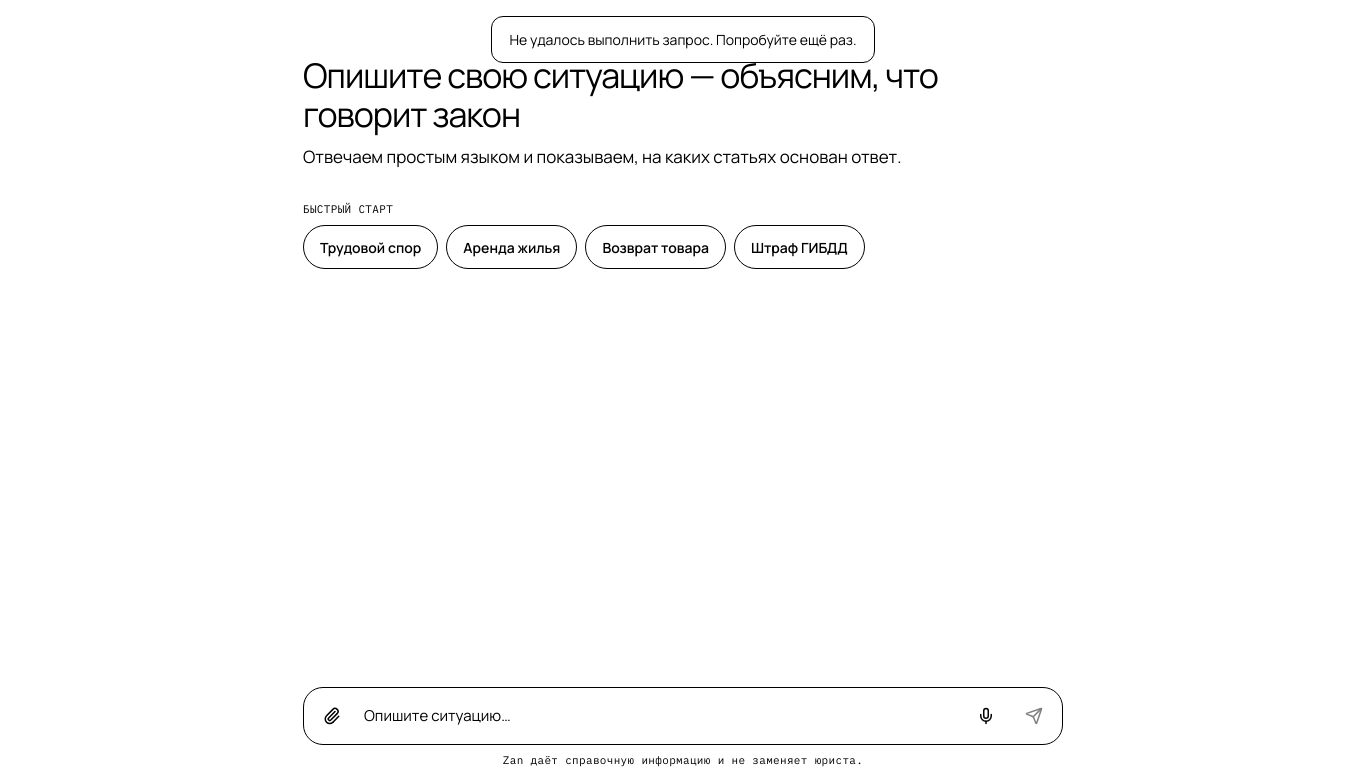
Test: ChatPage › отказ от оплаты при отправке — тред остаётся «ожидает оплаты» без кнопки «Оплатить»
This screenshot has width=1366, height=768.
Type "Вопрос без баланса" into the text box with placeholder "Опишите ситуацию…".
click(659, 716); type("Вопрос без баланса")  # box 358,695 -> 960,738
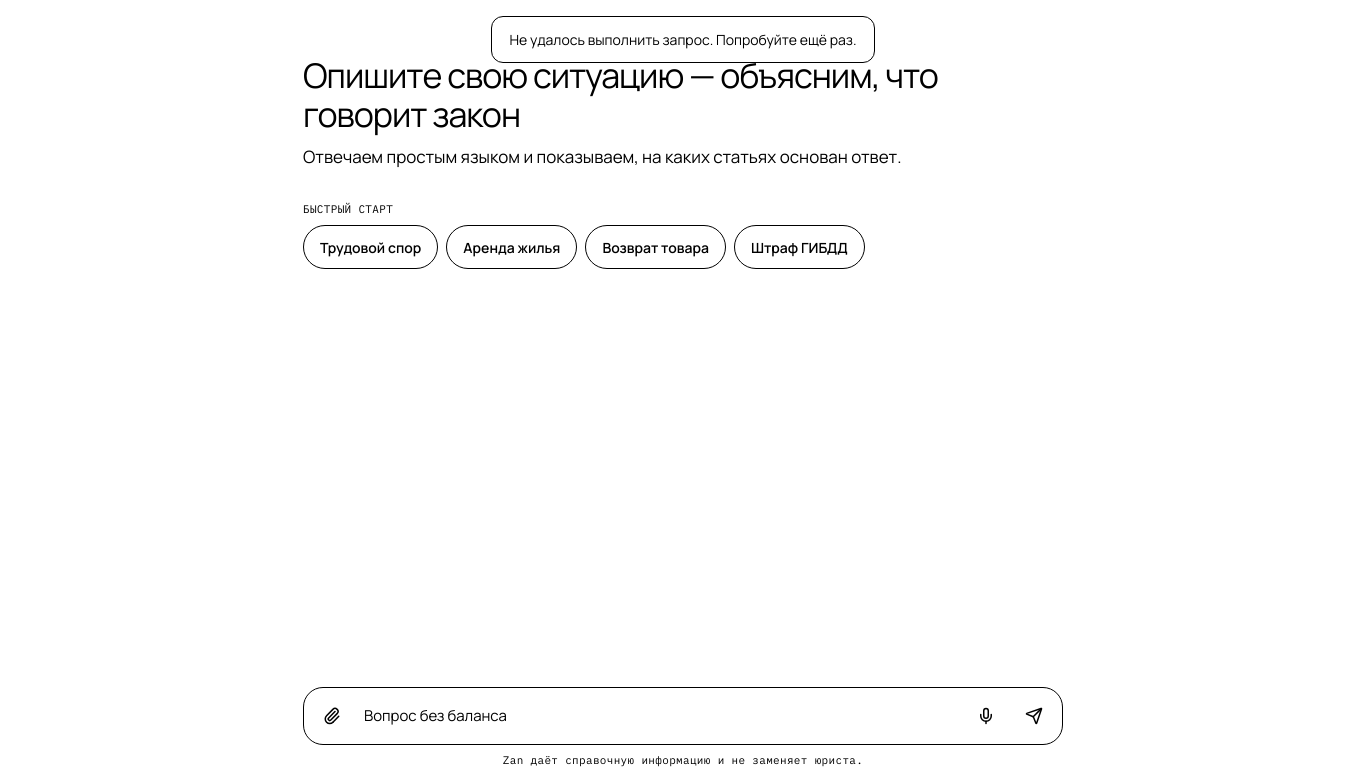
Click the button named "Отправить сообщение".
click(1034, 716)  # box 1012,694 -> 1056,738
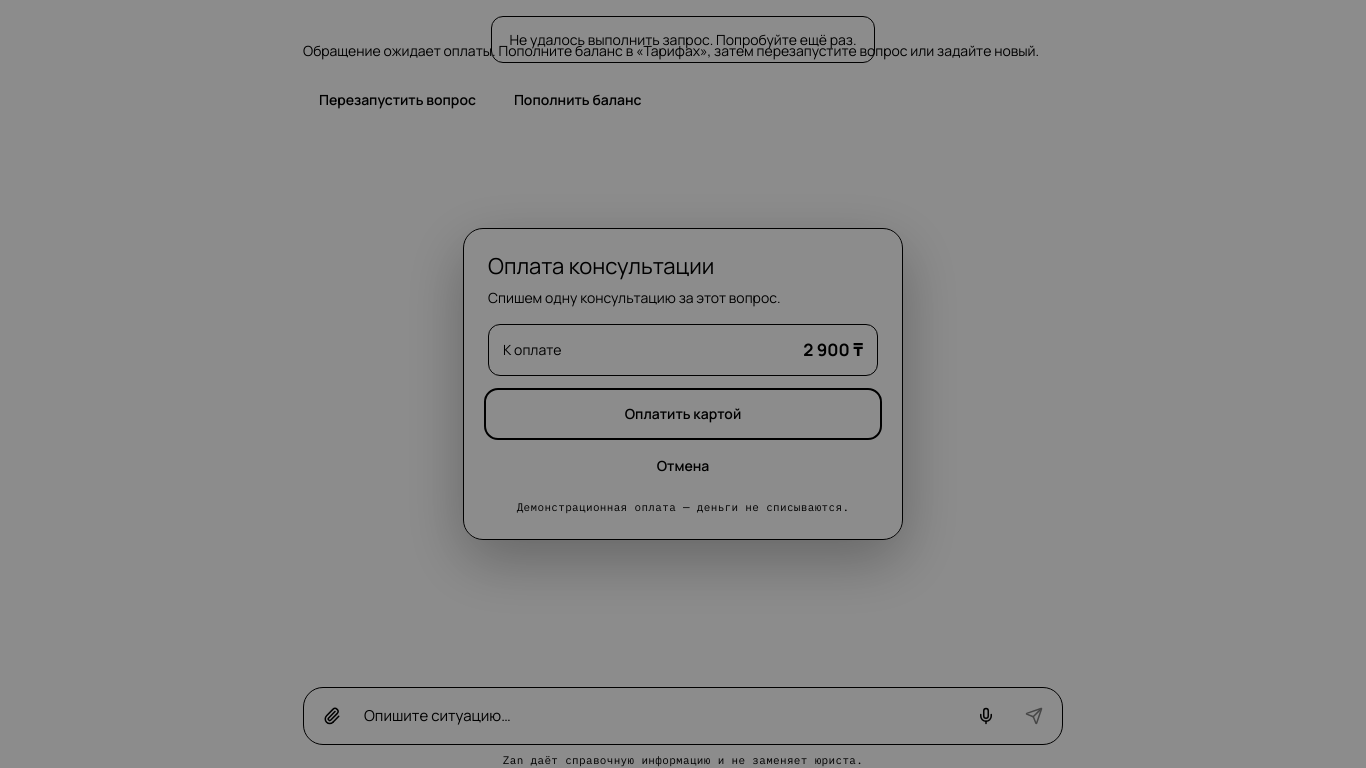
Click the button "Отмена".
click(683, 466)  # box 488,444 -> 878,488
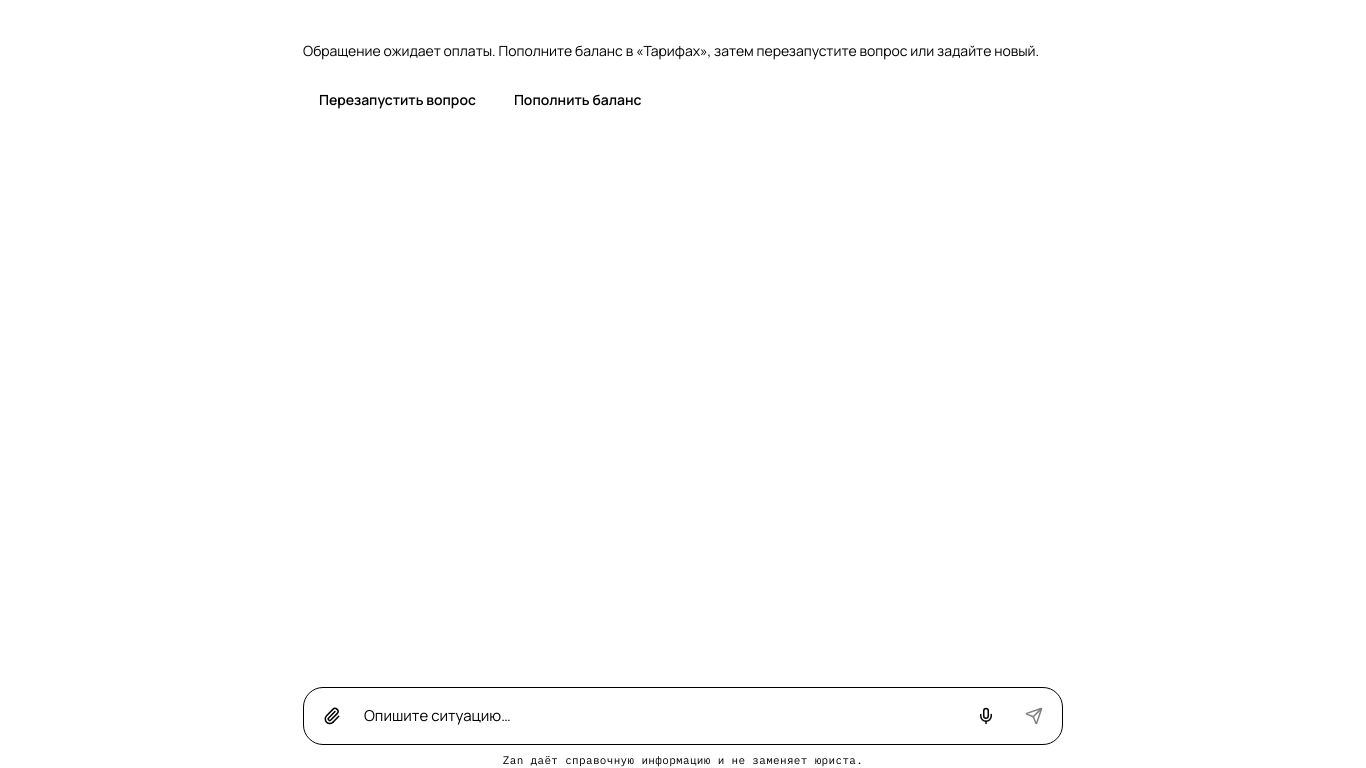
Check: the text "Обращение ожидает оплаты" is shown, box 303,41 -> 1039,60
Check: the button "Перезапустить вопрос" is shown, box 303,77 -> 492,121
Check: the button "Оплатить" is gone
